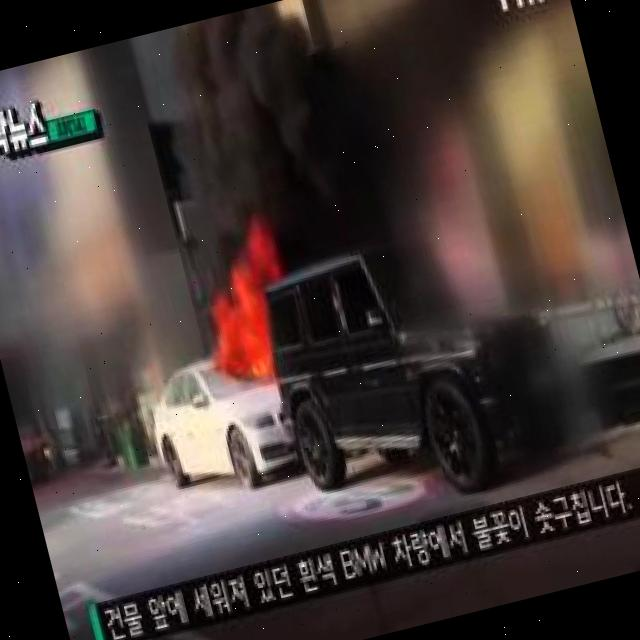fire: (200, 240, 306, 390)
